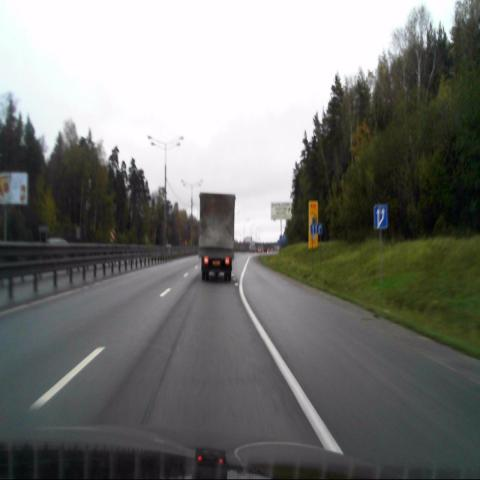5_15_3: (373, 204, 387, 228)
